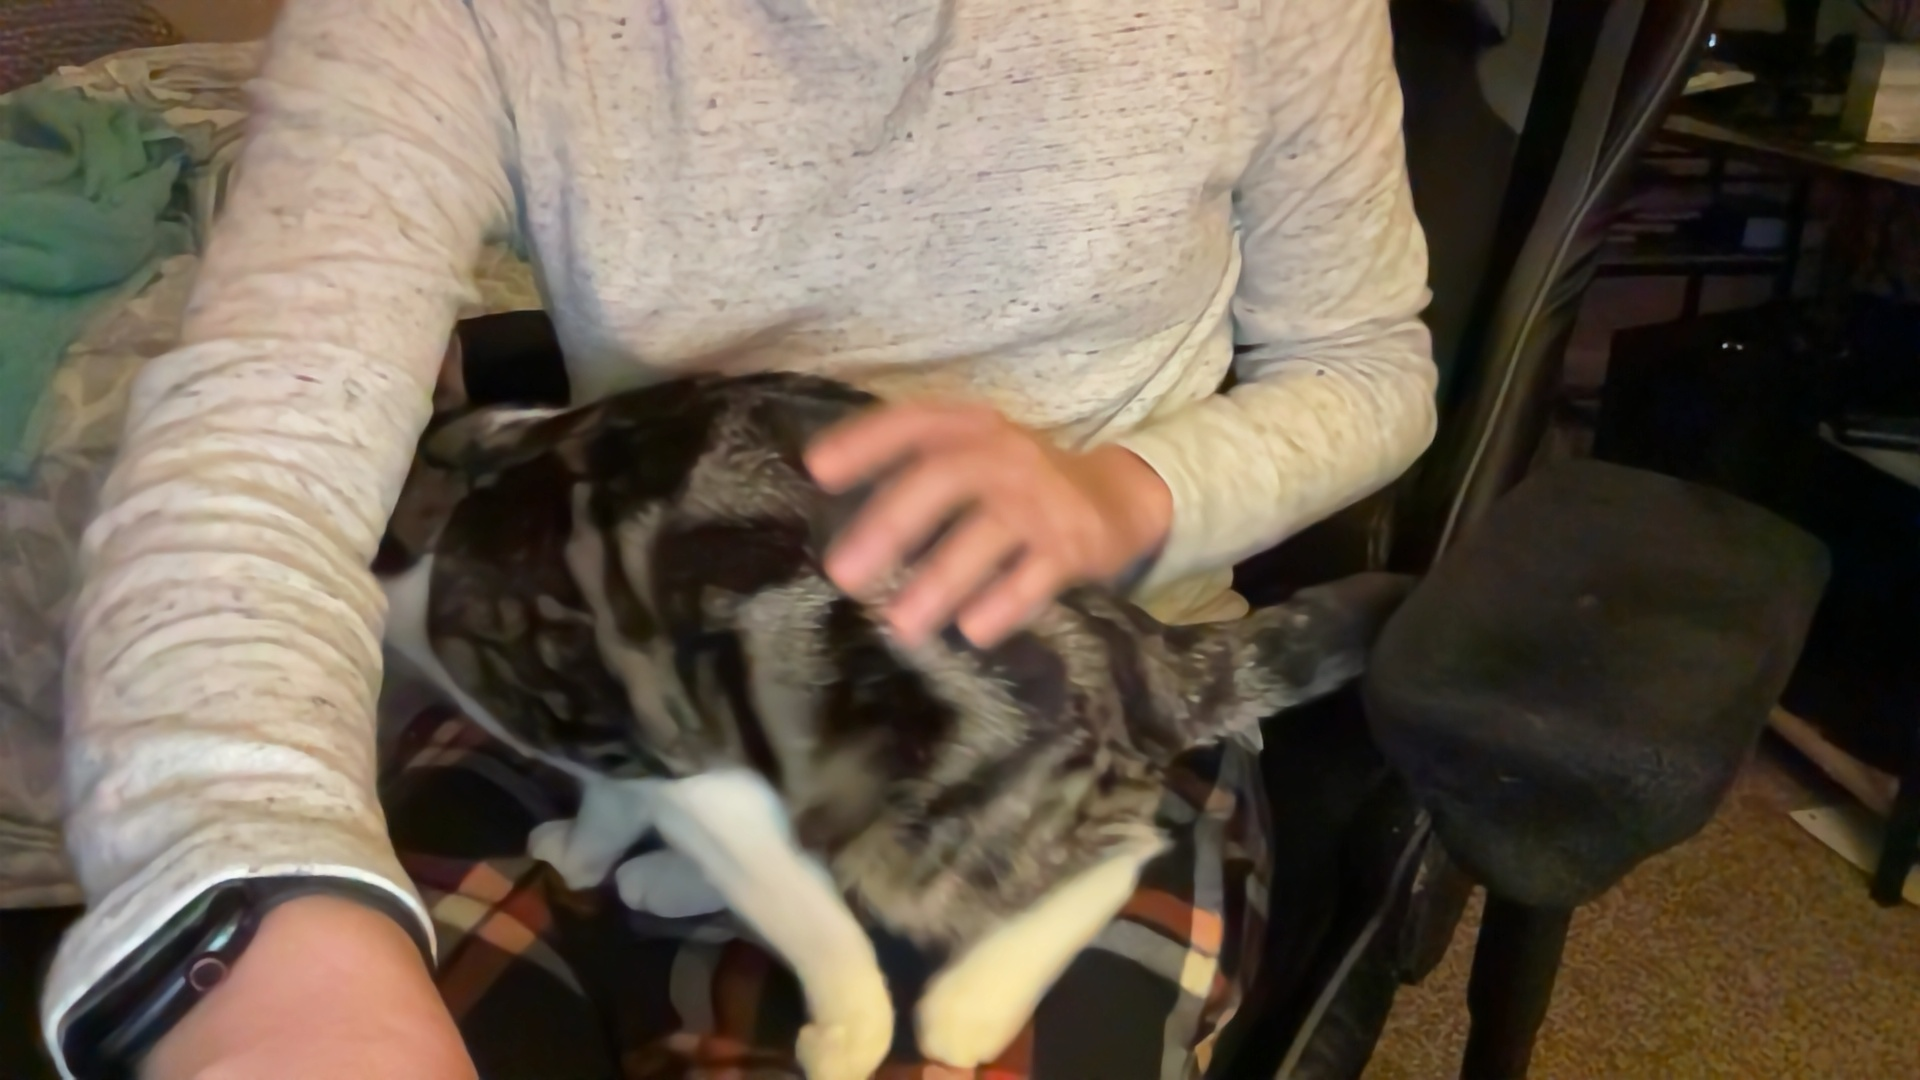cat: (328, 363, 1400, 1080)
